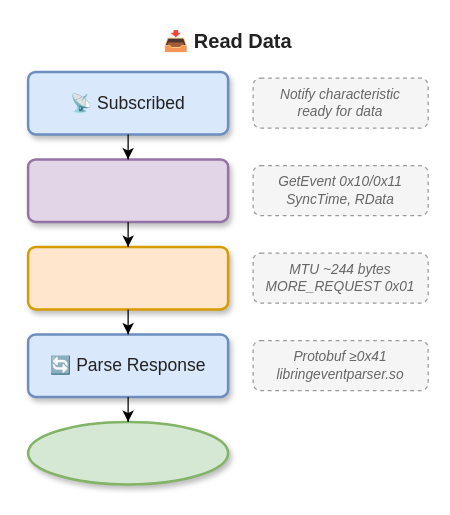
The diagram is 450 pixels wide and 515 high, and some of its shapes have lost their labels. Here are the shapes that lost their labels. From the top down, the centre of each, then its label:
the point at 128,191: 📤 Request Data
the point at 128,279: 📨 Receive Chunks
the point at 128,454: ✅ Data Ready
